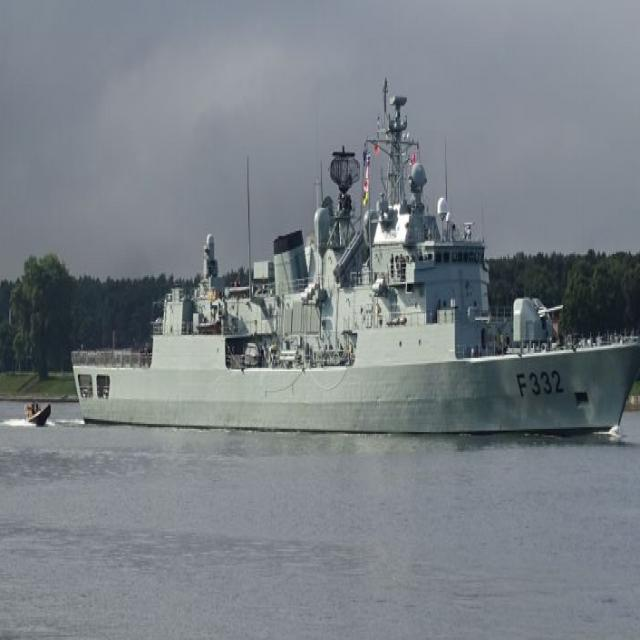Fragata: (68, 85, 640, 442)
